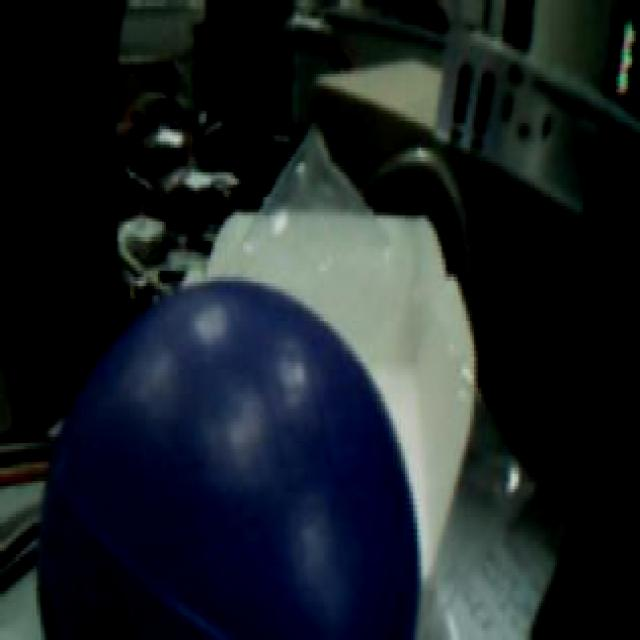BallPurple: (39, 278, 418, 640)
